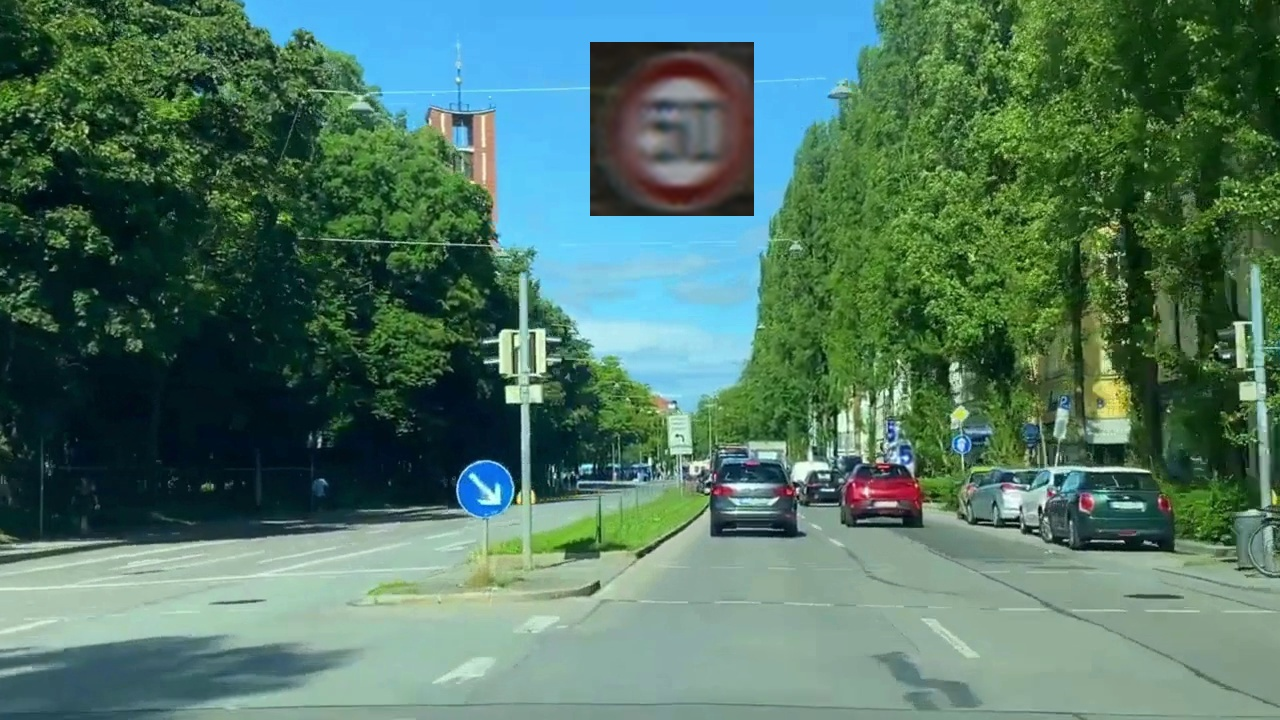Speed 50: (590, 42, 754, 216)
